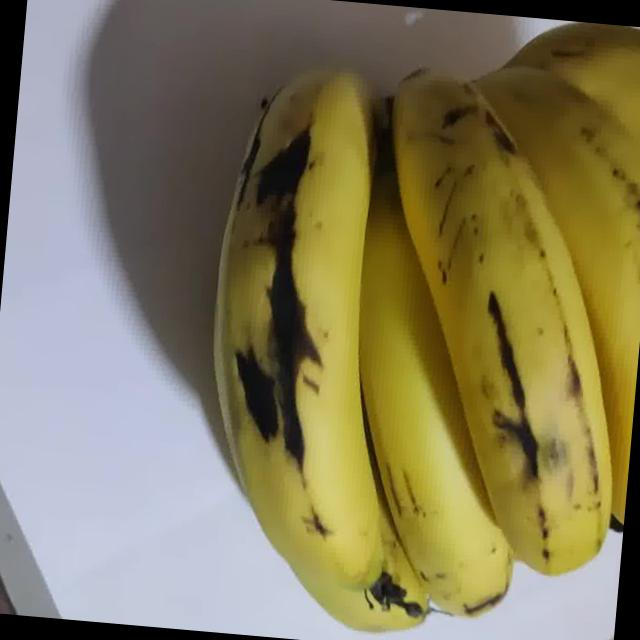banana_pacche: (89, 0, 640, 640)
